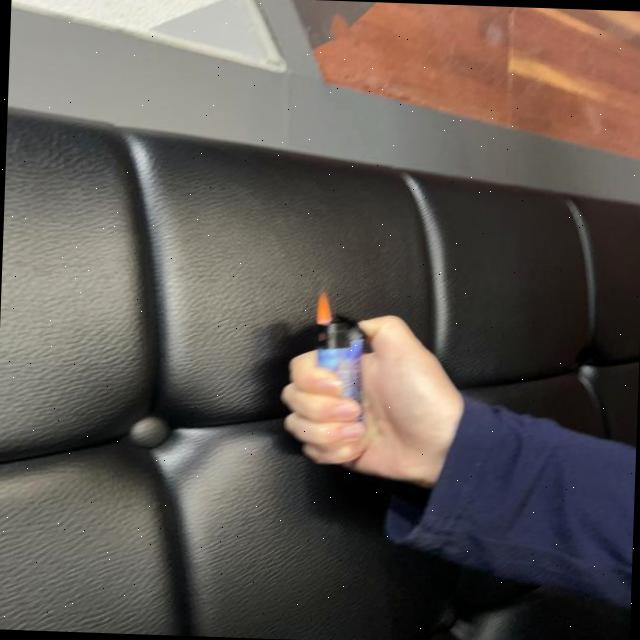fire: (316, 291, 334, 326)
